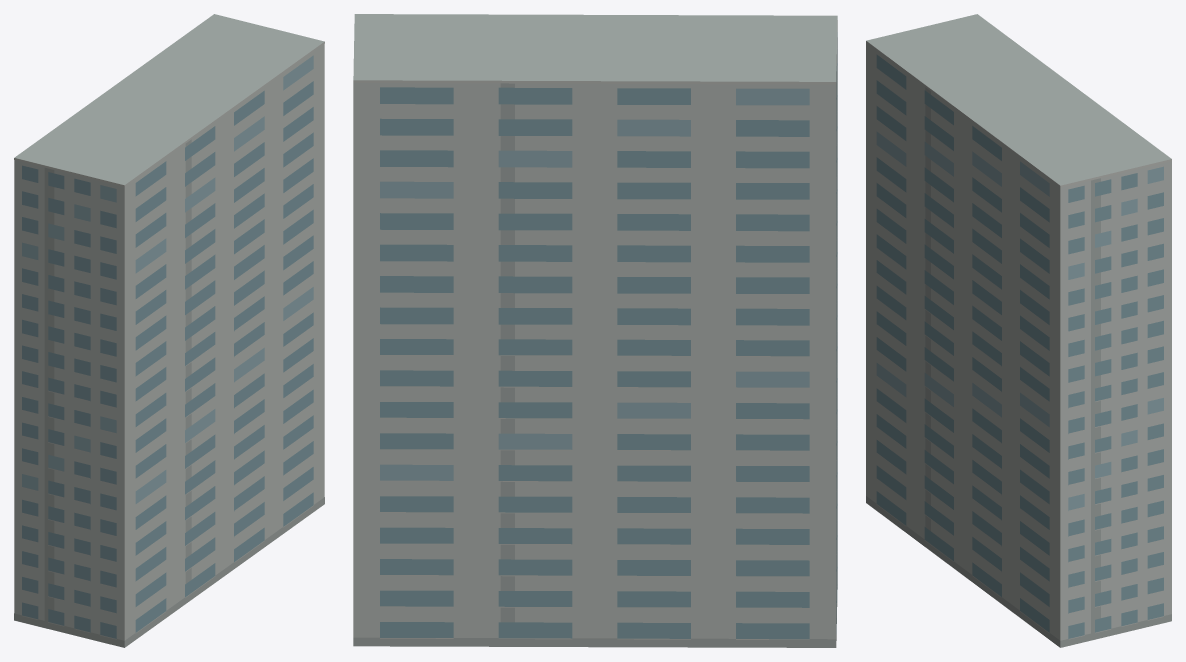
Rendered from residential-05865d9c-36de-4be9-a280-1016ce9ef38f.glb.
3 views of the same model, side by side, from view 1: azimuth 30°, elevation 25°; view 2: azimuth 150°, elevation 25°; view 3: azimuth 270°, elevation 25° (orthographic). The views are drawn at different scales.
Visible parts, largest first — view 1: residential-05865d9c-36de-4be9-a280-1016ce9ef38f.tmp; view 2: residential-05865d9c-36de-4be9-a280-1016ce9ef38f.tmp; view 3: residential-05865d9c-36de-4be9-a280-1016ce9ef38f.tmp.
Part boxes in pixels (<box>): residential-05865d9c-36de-4be9-a280-1016ce9ef38f.tmp: <box>14,14,324,647</box>; residential-05865d9c-36de-4be9-a280-1016ce9ef38f.tmp: <box>353,14,837,647</box>; residential-05865d9c-36de-4be9-a280-1016ce9ef38f.tmp: <box>866,14,1171,647</box>.
Size of the model in its own units: 41.43 by 52 by 31.19.
